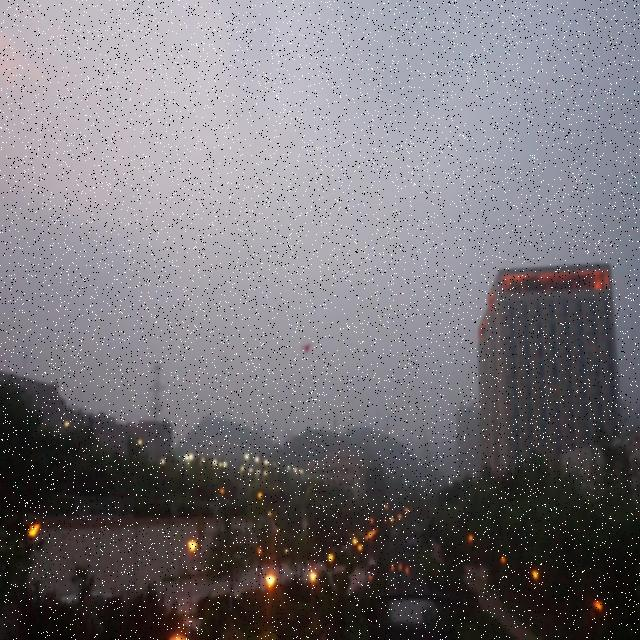UAV: (301, 342, 313, 354)
